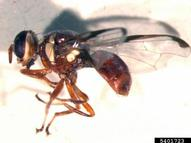Fruit fly: (11, 26, 143, 126)
